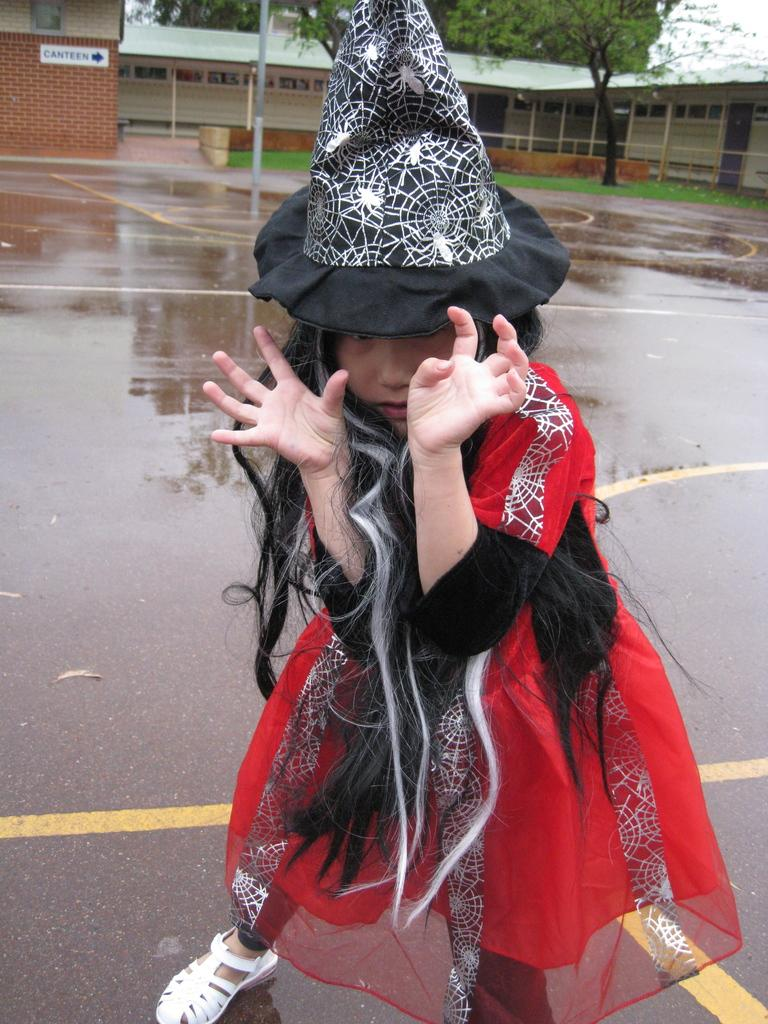Hat: (246, 0, 570, 339)
